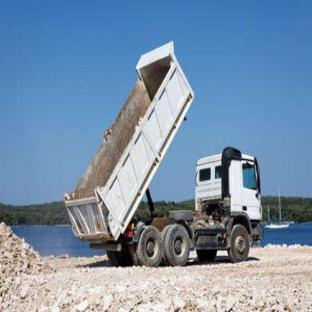Vehicle: (67, 36, 280, 268)
